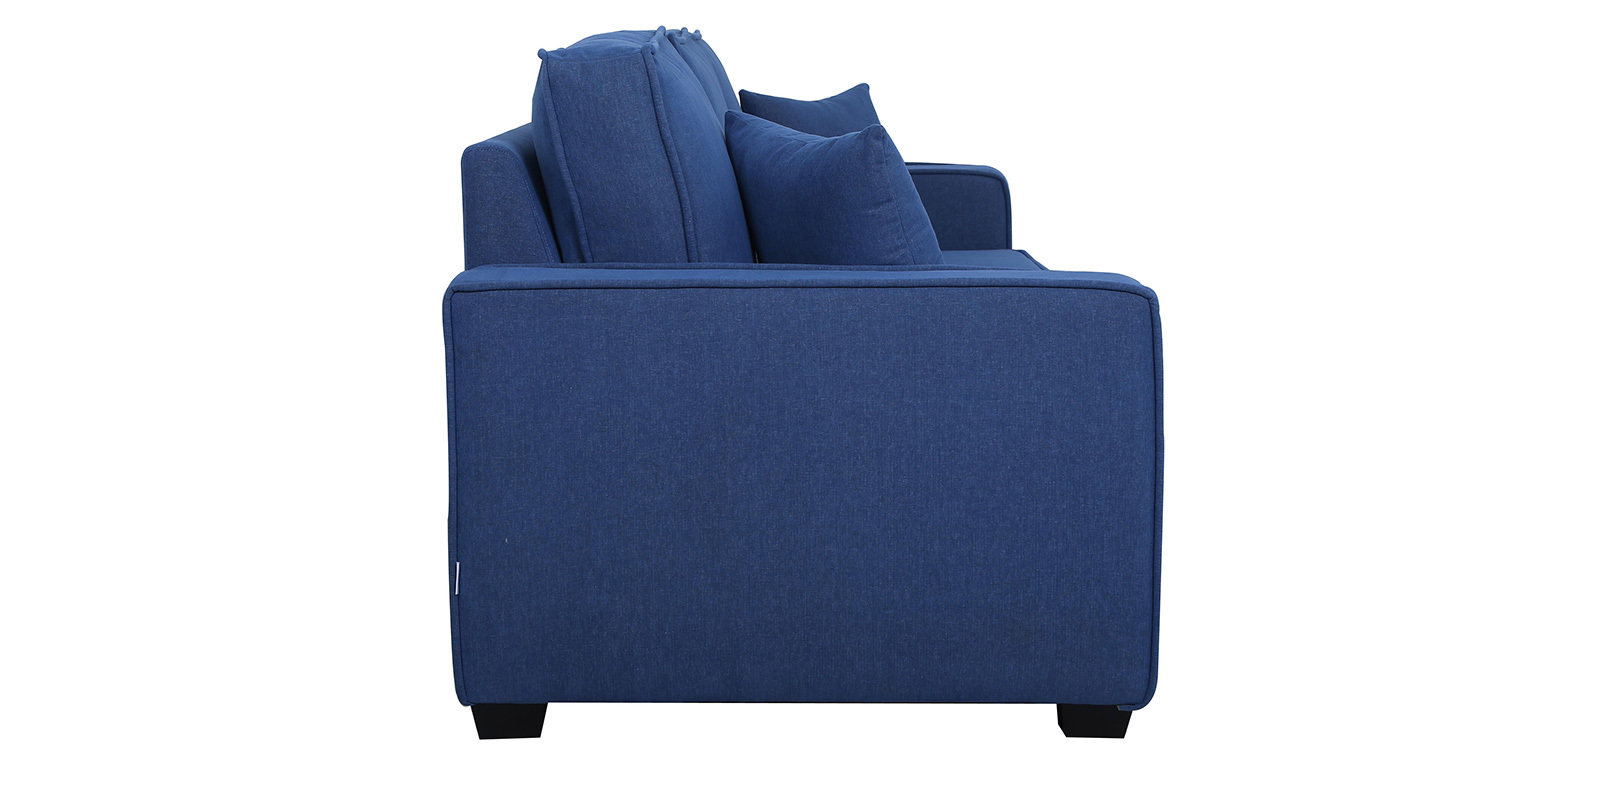Hugo Three Seater Sofa in Denim Blue Colour by CasaCraft: (431, 18, 1166, 755)
